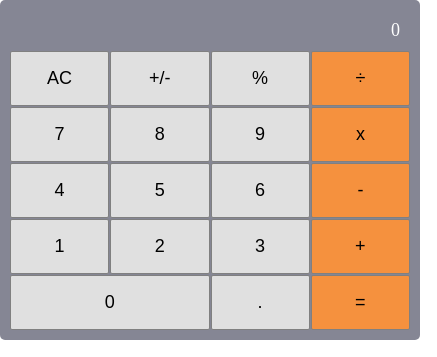
Calculator Component › handles the "AC" button correctly
Click some buttons
Step 1. Click the button "5" → {"x": 160, "y": 190}, box 110,163 -> 210,218
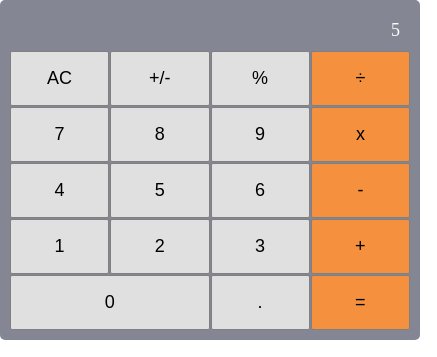
Step 2. Click the button "AC" → {"x": 60, "y": 78}, box 10,51 -> 109,106
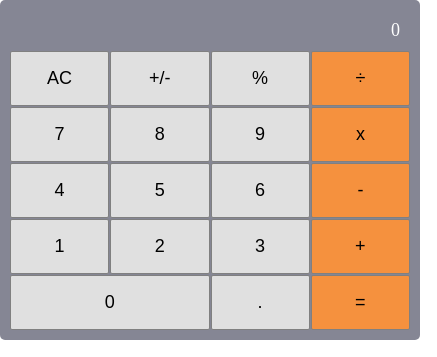
Expected: the text with test id "displayScreen" reads "0", 391,20 -> 400,40
